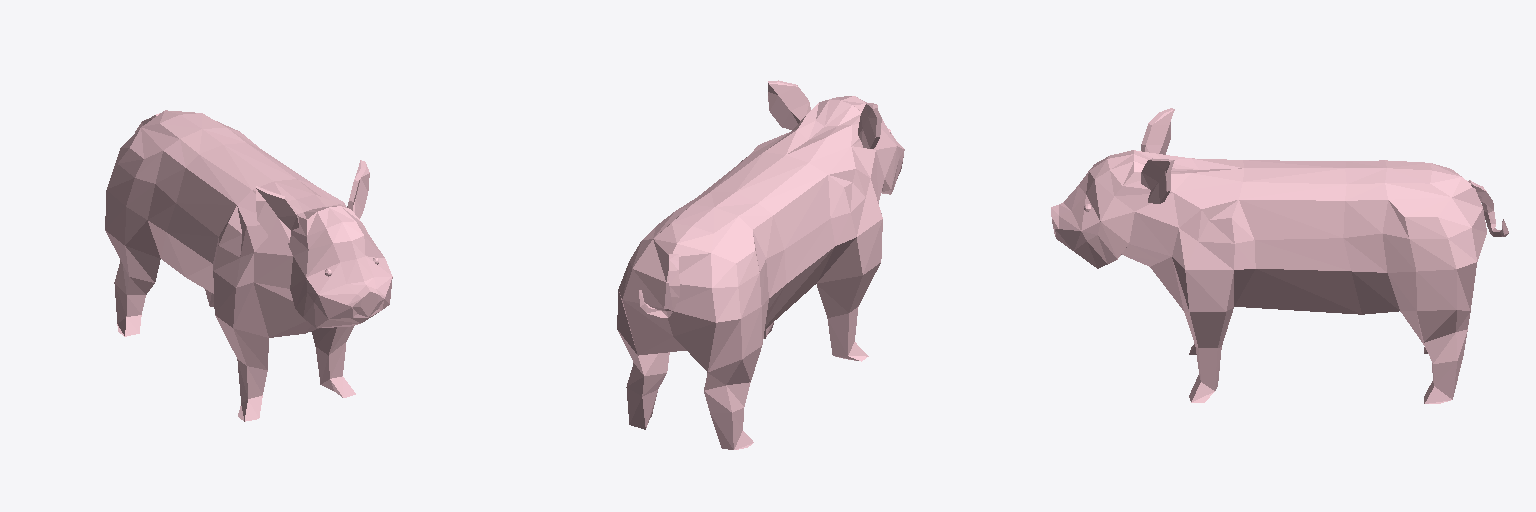
3 renders of one model, left to right at view 1: azimuth 30°, elevation 25°; view 2: azimuth 150°, elevation 25°; view 3: azimuth 270°, elevation 25°, orthographic.
Size of the model in its own units: 40.93 by 69.78 by 119.
Materials: 1 (1 with a texture image).